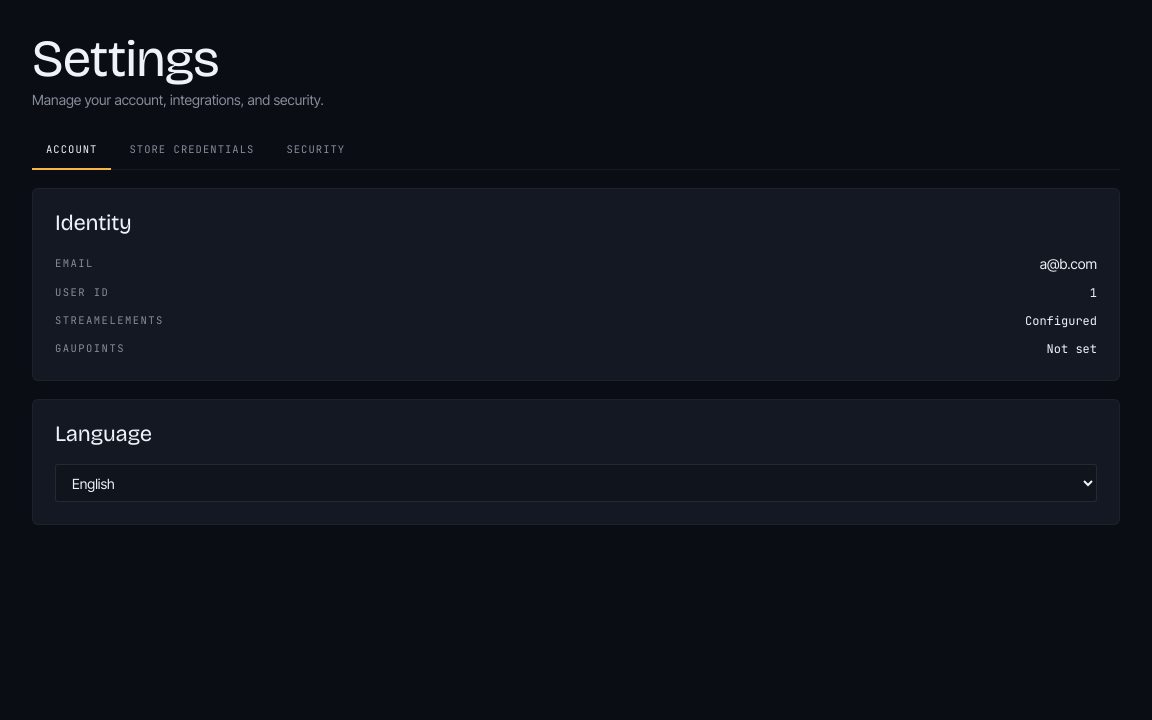
Test: SettingsPage - error copy comes from the catalog › interpolates the code params when a locale change fails
Select "Português (Brasil)" in the dropdown named "Change language" at (576, 483), box [55, 464, 1097, 502]
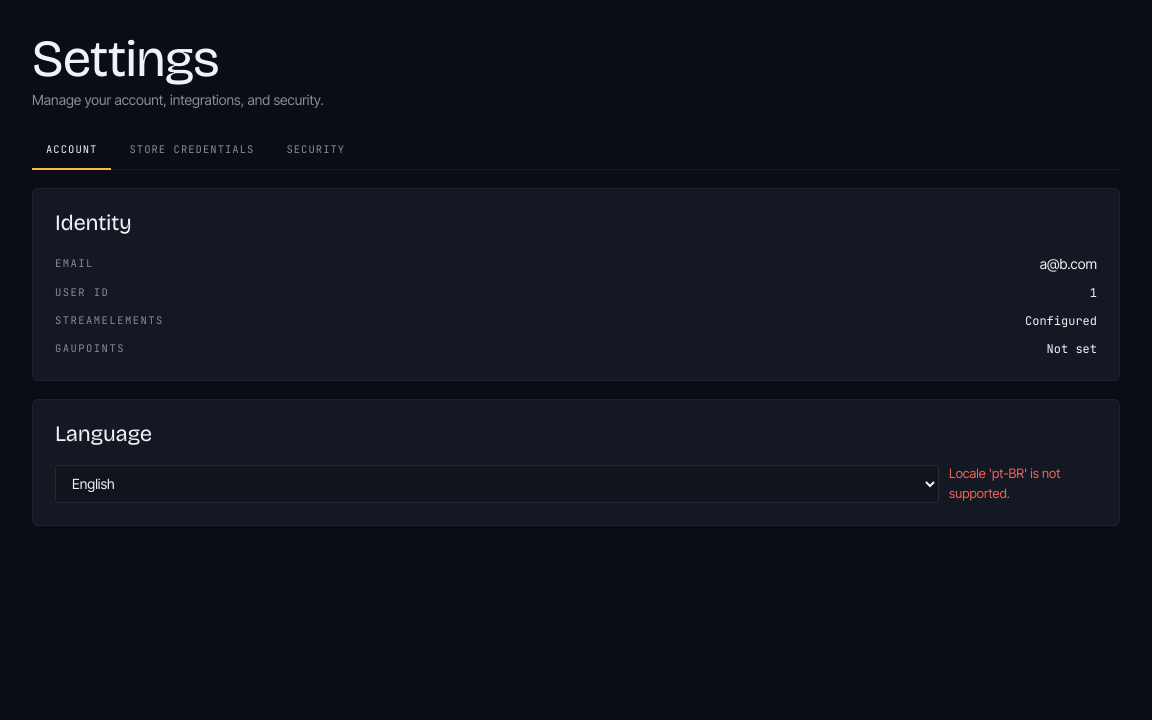
Result: the text "Locale 'pt-BR' is not supported." is shown at [949, 465, 1060, 501]
